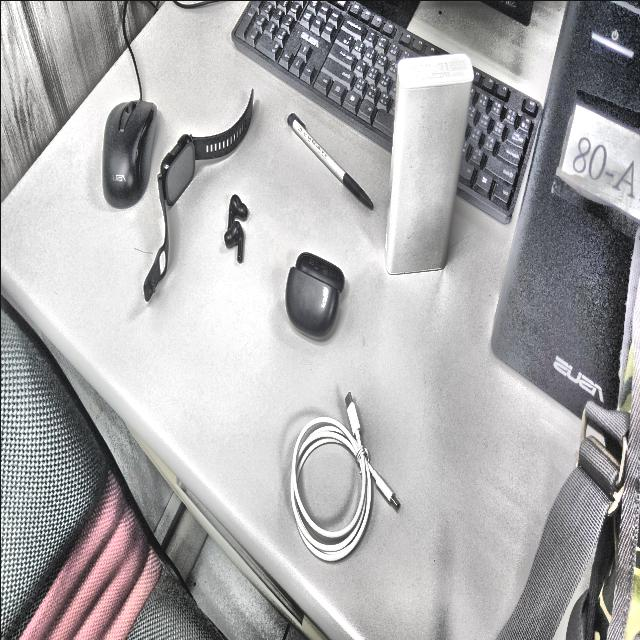Bluetooth headphones: (285, 252, 343, 338), (223, 193, 247, 262)
Electronic watch: (143, 89, 252, 300)
Keyboard: (230, 0, 448, 150), (456, 65, 542, 222)
MOUSE: (307, 59, 628, 283), (102, 100, 156, 207)
Power bank: (385, 52, 472, 273)
